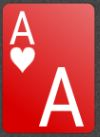Heart: (11, 48, 36, 73)
